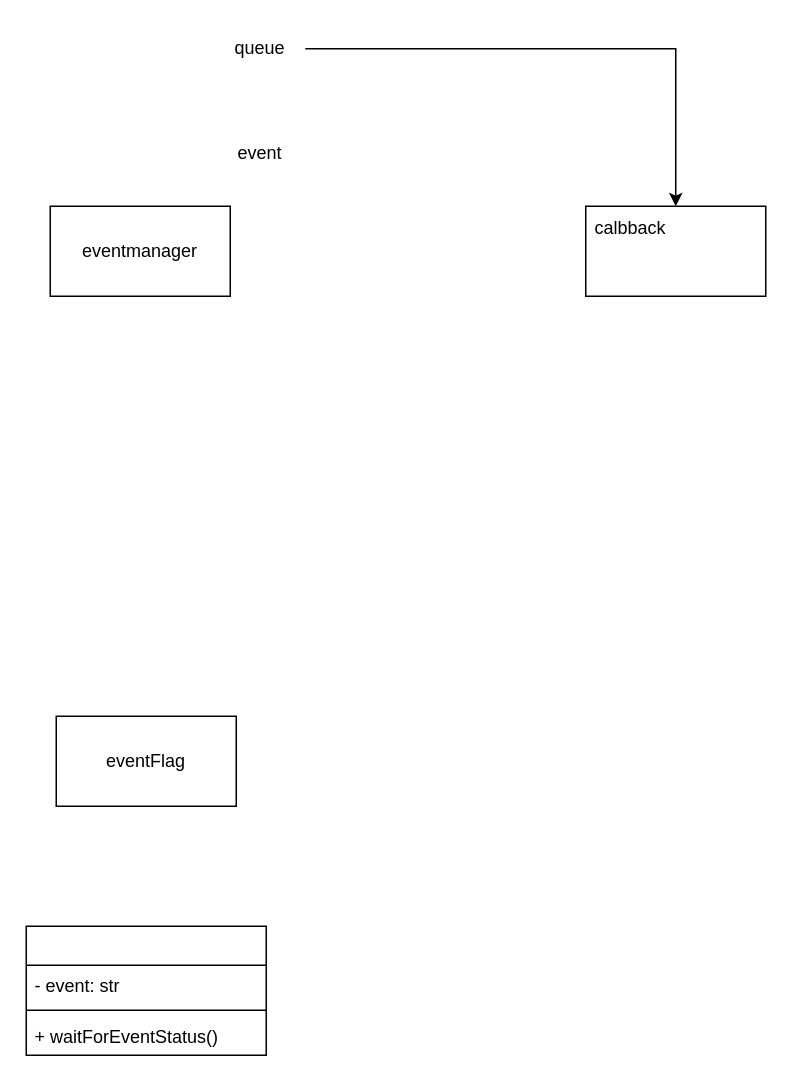
The diagram is 792 pixels wide and 1085 high, and some of its shapes have lost their labels. The box of each missing label's shape, as (x1, y1, x2, y2) in pixels:
EventReceiver: (25, 925, 266, 1055)
process: (584, 205, 766, 296)
